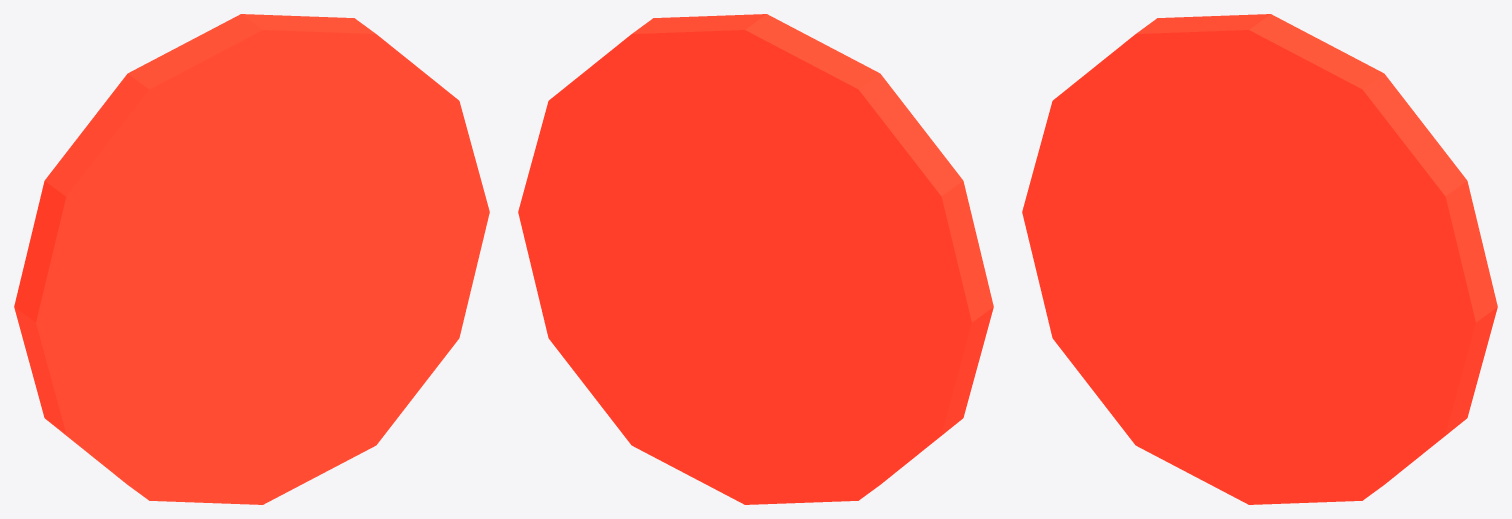
The model's file is SignalRedLamp.glb.
3 renders of one model, left to right at view 1: azimuth 30°, elevation 25°; view 2: azimuth 150°, elevation 25°; view 3: azimuth 330°, elevation 25°, orthographic.
Parts seen in each view (by area): view 1: SignalRedLamp; view 2: SignalRedLamp; view 3: SignalRedLamp.
Part boxes in pixels (<box>): SignalRedLamp: <box>14,14,489,504</box>; SignalRedLamp: <box>518,14,993,504</box>; SignalRedLamp: <box>1022,14,1497,504</box>.
Size of the model in its own units: 0.24 by 0.24 by 0.02.
